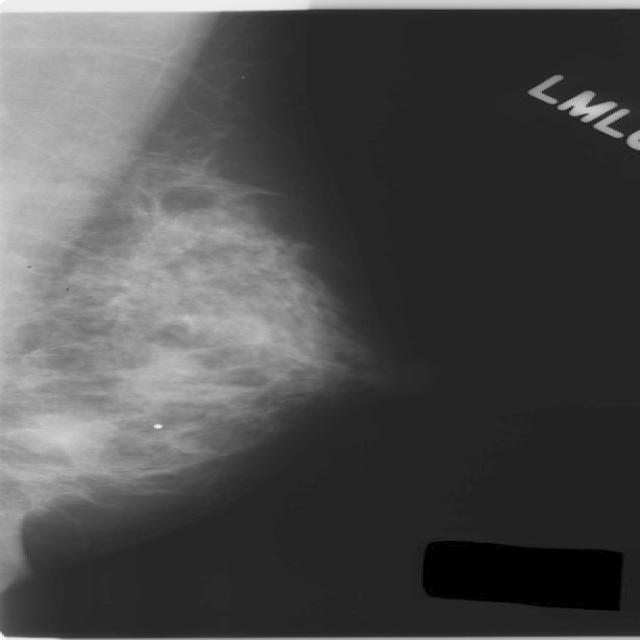tumour: (4, 410, 115, 460)
